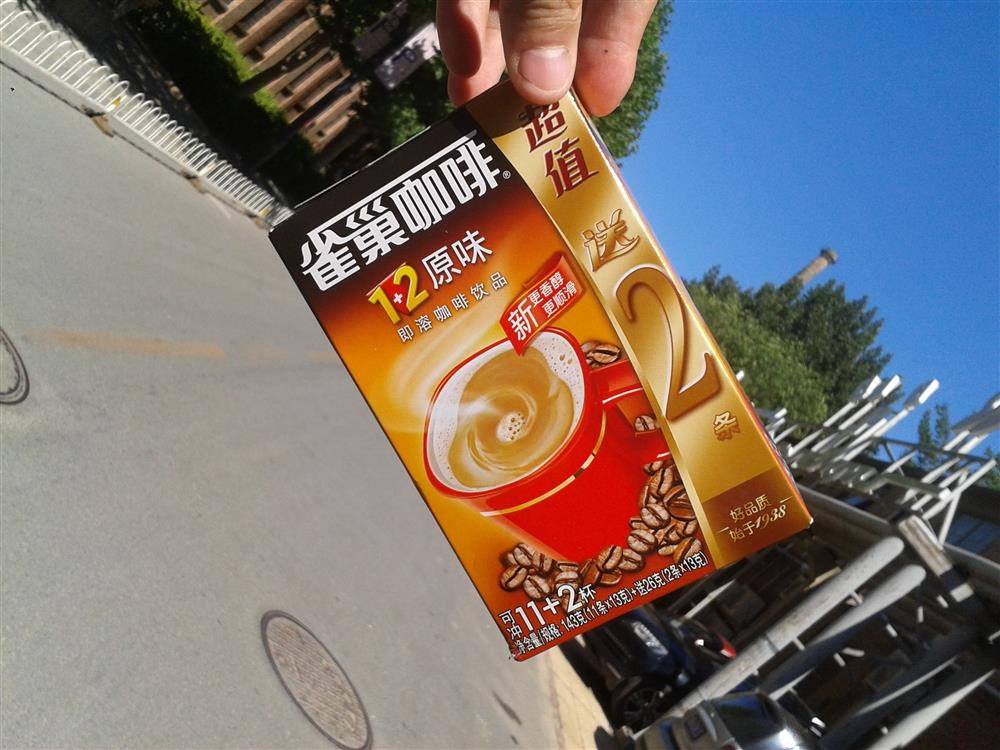Nestle: (271, 78, 825, 657)
